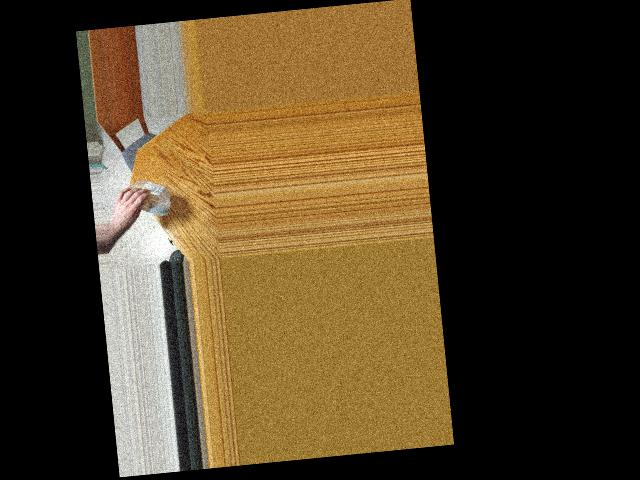cheese: (129, 180, 168, 213)
